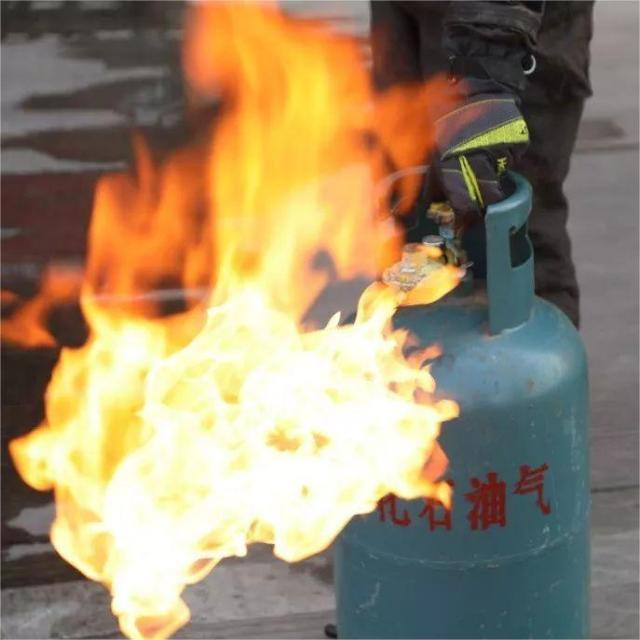Fire: (1, 294, 454, 640), (56, 0, 440, 295)
